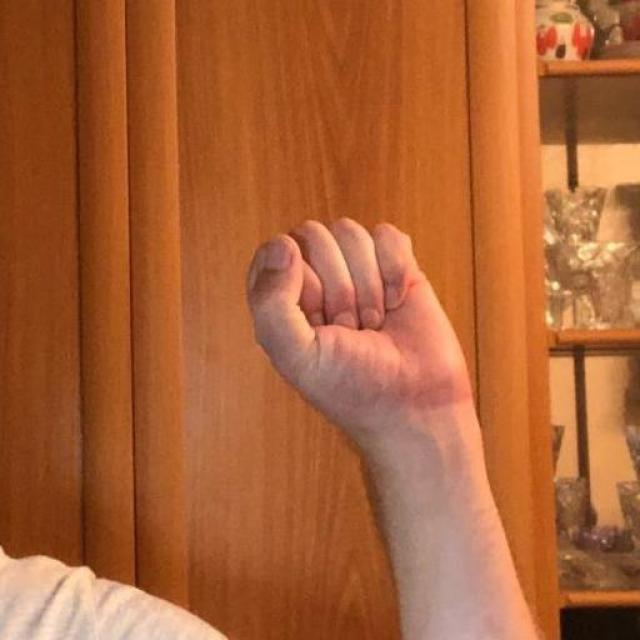hand: (245, 215, 483, 450)
